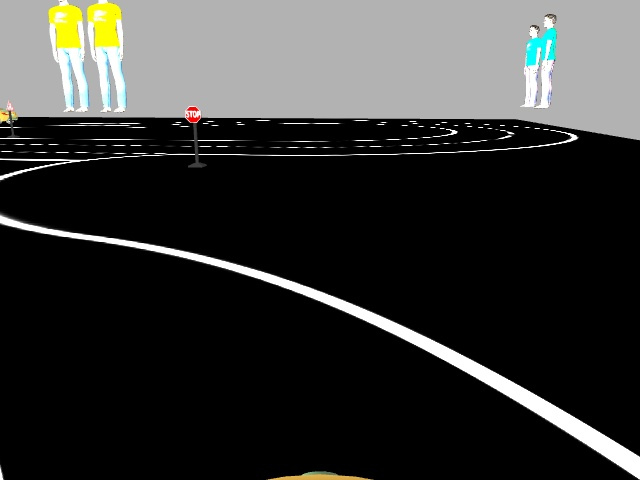Stop: (183, 103, 202, 122)
